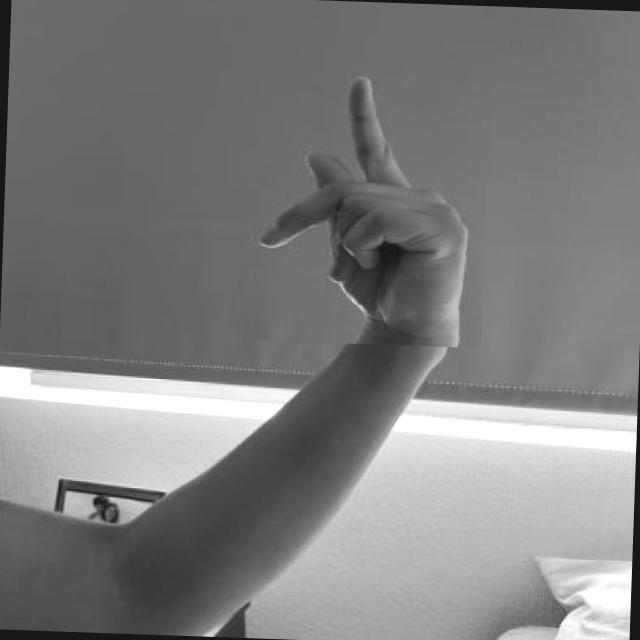K: (242, 70, 490, 348)
